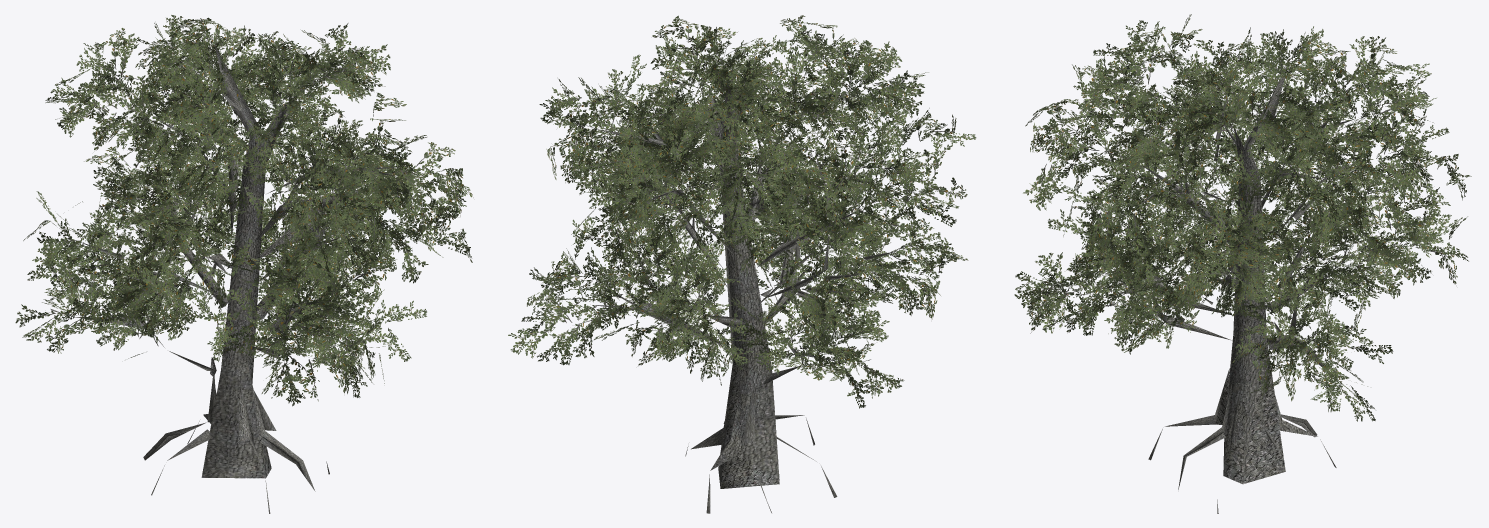
File: tree_olive.gltf
3 views of the same model, side by side, from view 1: azimuth 30°, elevation 25°; view 2: azimuth 150°, elevation 25°; view 3: azimuth 270°, elevation 25° (orthographic).
Parts seen in each view (by area): view 1: tree_olive; view 2: tree_olive; view 3: tree_olive.
Boxes of the visible parts, x1=… form: tree_olive: x1=15, y1=15, x2=473, y2=513; tree_olive: x1=508, y1=15, x2=976, y2=513; tree_olive: x1=1014, y1=14, x2=1471, y2=513.
Size of the model in its own units: 6.09 by 6.5 by 6.2.
2 materials, 2 textured.
